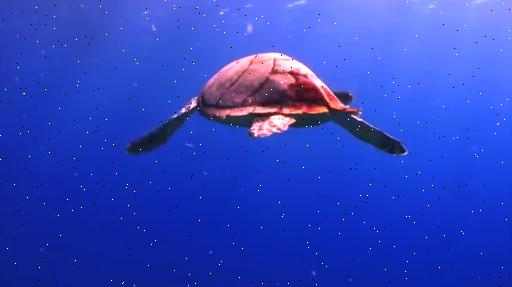Fish: (127, 53, 406, 155)
